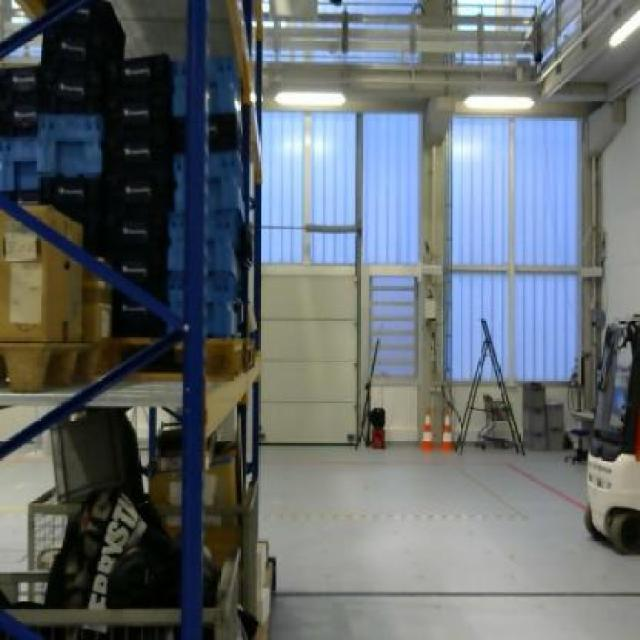box: (0, 202, 80, 344)
